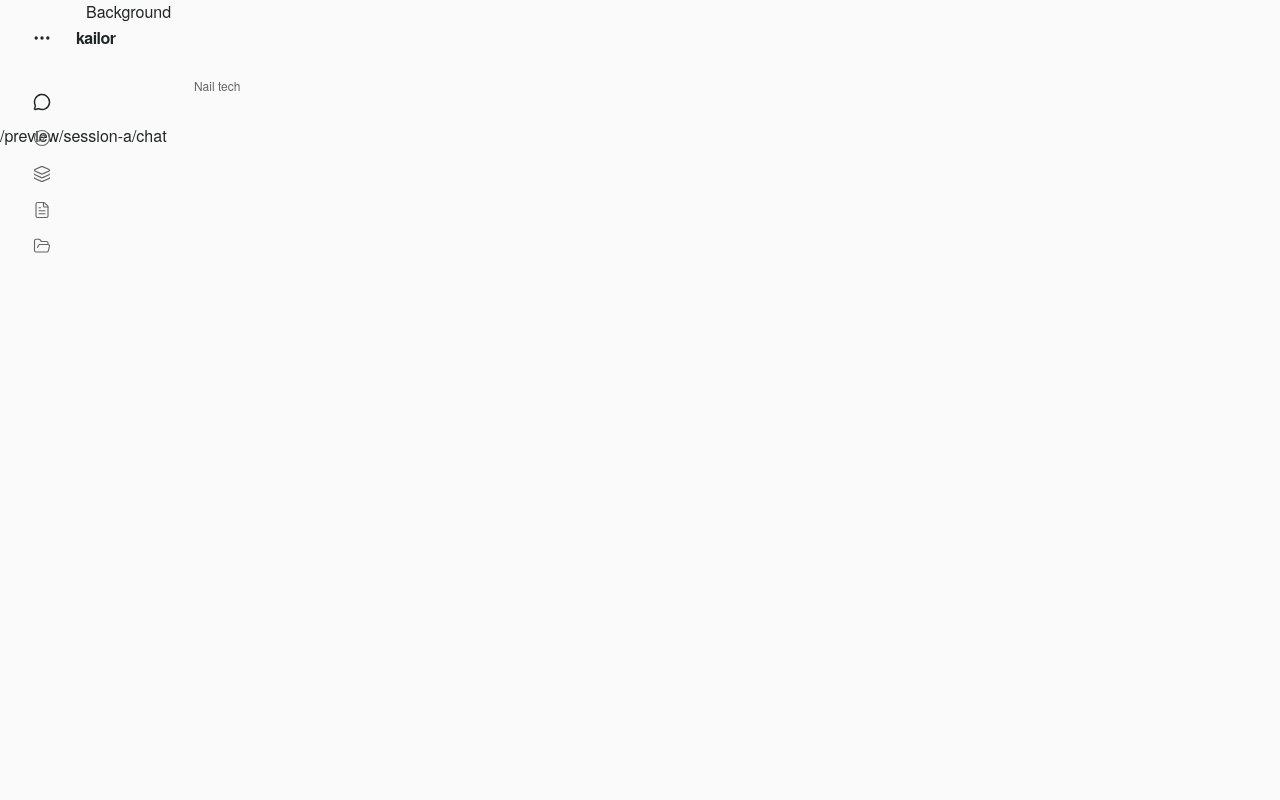
Test case: routes the guest new-project plus to safe journey choices
Step 1. Click the button named "Open navigation" → {"x": 42, "y": 38}, box [20,16,64,60]
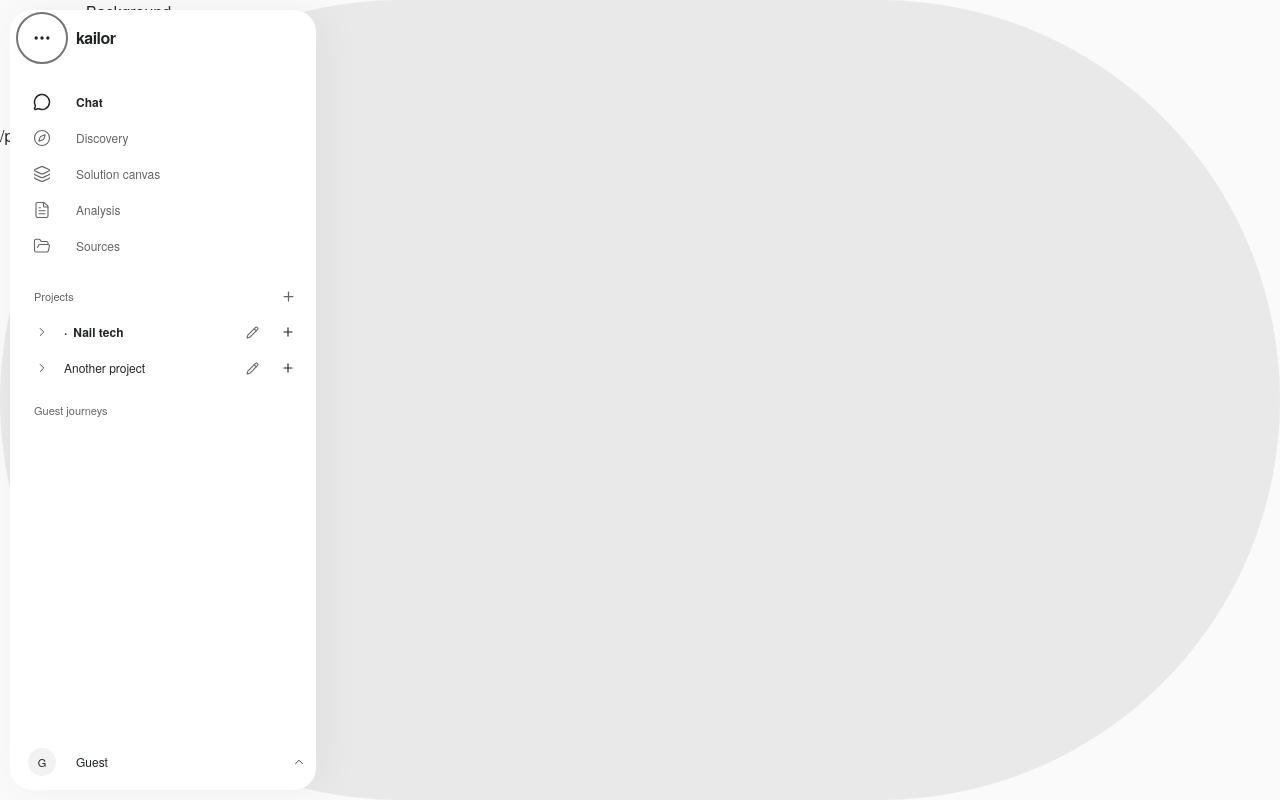
Step 2. Click the button named "New project" → {"x": 288, "y": 296}, box [270,278,306,314]
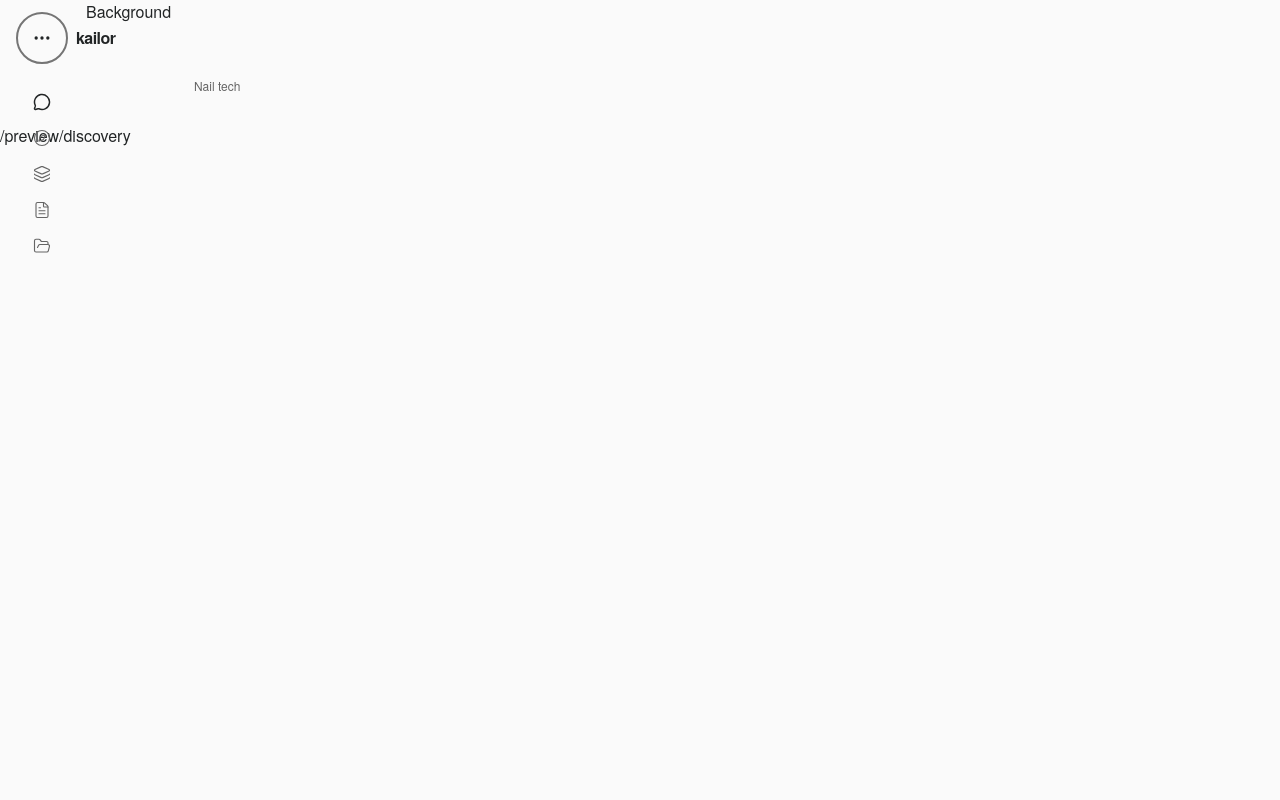
Now the text named "Location" reads "/preview/discovery", box [0,124,131,147]
